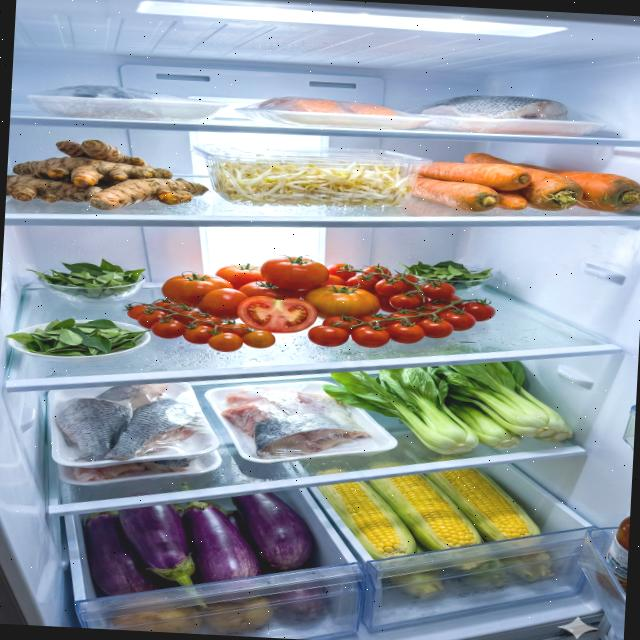bean_sprouts: (205, 153, 419, 214)
carrot: (412, 149, 640, 221)
corn: (314, 460, 546, 570)
curry_leaves: (4, 314, 153, 361), (24, 255, 148, 302), (396, 258, 494, 293)
eggplant: (82, 482, 317, 606)
fish: (52, 378, 198, 468), (218, 386, 374, 464), (420, 91, 570, 123), (260, 94, 398, 116)
pakchoy: (318, 351, 577, 461)
tomato: (120, 246, 498, 366)
turmeric: (6, 134, 212, 216)
